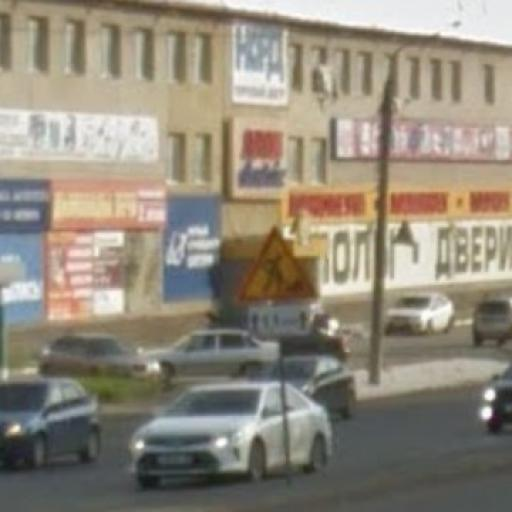traffic_sign: (236, 222, 324, 307)
